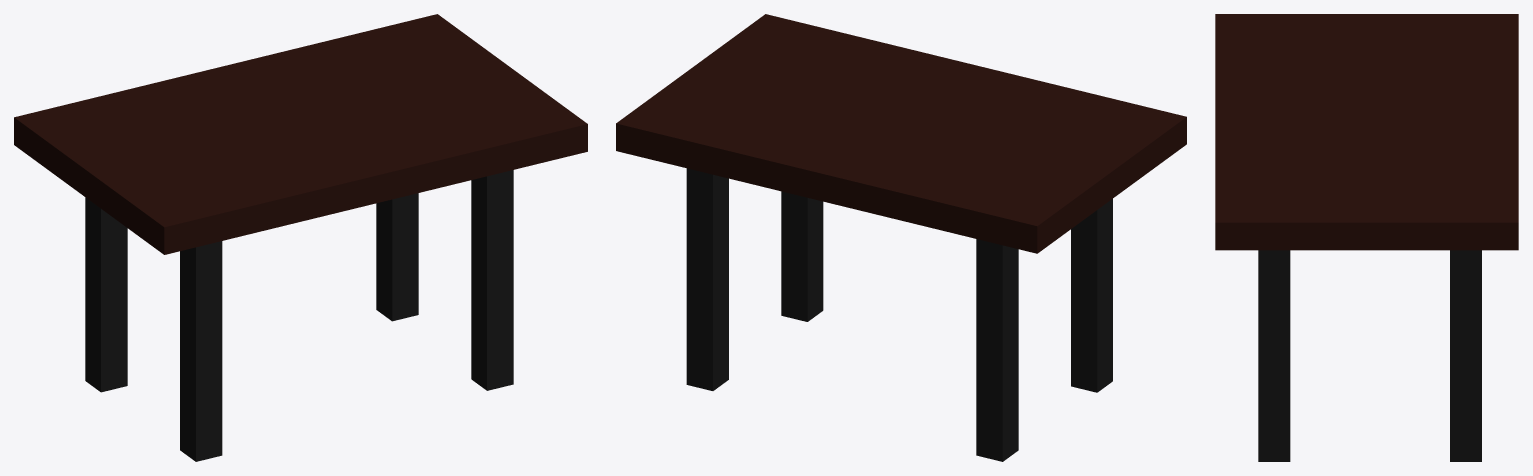
File: mesa1.FBX
3 renders of one model, left to right at view 1: azimuth 30°, elevation 25°; view 2: azimuth 150°, elevation 25°; view 3: azimuth 270°, elevation 25°, orthographic.
Parts seen in each view (by area): view 1: Cubo.003; view 2: Cubo.003; view 3: Cubo.003.
Part boxes in pixels (left/top/right/bottom): Cubo.003: left=14, top=14, right=587, bottom=461; Cubo.003: left=616, top=14, right=1186, bottom=461; Cubo.003: left=1215, top=14, right=1518, bottom=461.
Bounding box in the file's own units: 630 × 374 × 387.
